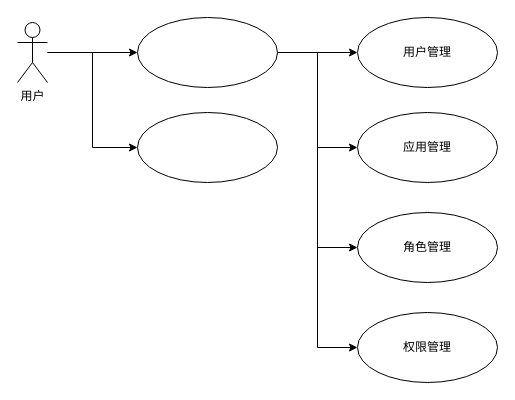
This 515x400 diagram has some shape labels left out. The box of each missing label's shape, as (x1, y1, x2, y2) in pixels:
注册: (136, 112, 278, 182)
登录: (136, 16, 278, 88)
